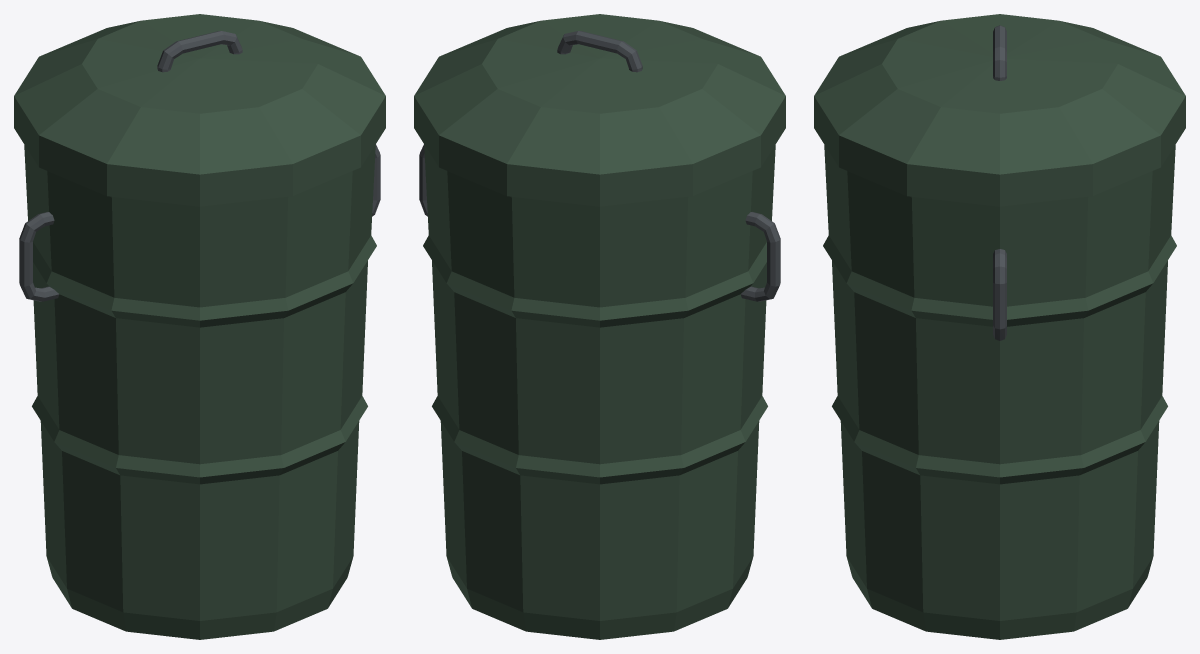
Rendered from poubelle.glb.
3 renders of one model, left to right at view 1: azimuth 30°, elevation 25°; view 2: azimuth 150°, elevation 25°; view 3: azimuth 270°, elevation 25°, orthographic.
Parts seen in each view (by area): view 1: can, lid, handle_l, knob; view 2: can, lid, handle_l, knob; view 3: can, lid, handle_r, knob.
Boxes of the visible parts, <box> form: can: <box>24,145,376,639</box>; lid: <box>14,14,385,206</box>; handle_l: <box>19,212,59,301</box>; knob: <box>157,31,242,72</box>; can: <box>423,145,775,639</box>; lid: <box>414,14,785,206</box>; handle_l: <box>740,212,780,301</box>; knob: <box>557,31,642,72</box>; can: <box>823,145,1176,639</box>; lid: <box>814,14,1185,206</box>; handle_r: <box>993,249,1006,340</box>; knob: <box>993,25,1006,80</box>.
Bounding box in the file's own units: 0.7035 × 1.01 × 0.63.
Materials: 2 (2 with a texture image).
